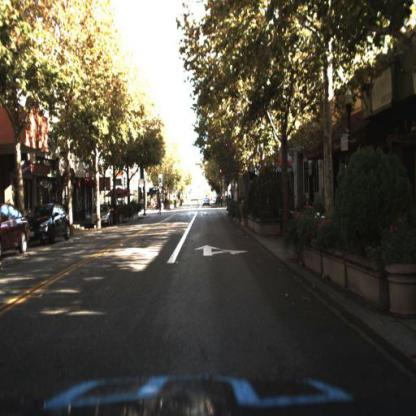car: (27, 203, 73, 244), (1, 201, 32, 261), (91, 203, 115, 228), (92, 202, 114, 223)
pedestrian: (158, 194, 165, 219)
trafficLight-Red: (217, 160, 225, 185)
